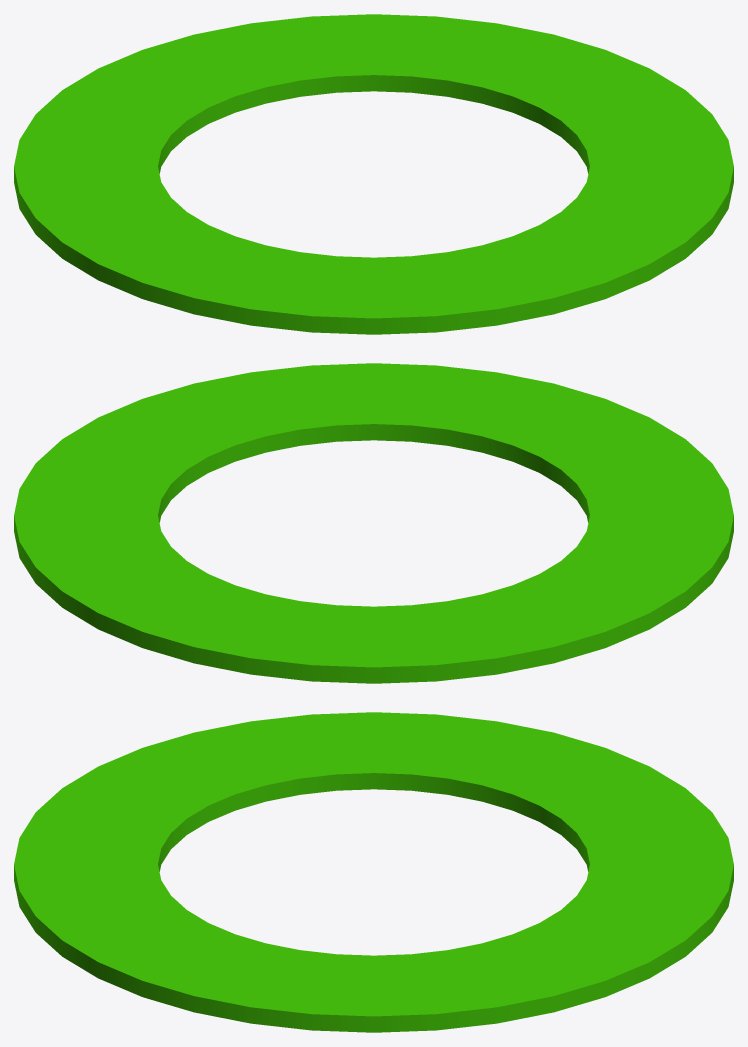
The model's file is SelectionCylinder.fbx.
3 renders of one model, top to bottom at view 1: azimuth 30°, elevation 25°; view 2: azimuth 150°, elevation 25°; view 3: azimuth 270°, elevation 25°, orthographic.
Visible parts, largest first — view 1: Cylinder_1, Cylinder; view 2: Cylinder_1, Cylinder; view 3: Cylinder_1, Cylinder.
Part boxes in pixels (x1,y1,x2,y2): Cylinder_1: [14, 14, 733, 334]; Cylinder: [158, 75, 589, 173]; Cylinder_1: [14, 363, 733, 683]; Cylinder: [158, 424, 589, 522]; Cylinder_1: [14, 712, 733, 1032]; Cylinder: [158, 773, 589, 871].
Size of the model in its own units: 95.8 by 2.39 by 95.8.
